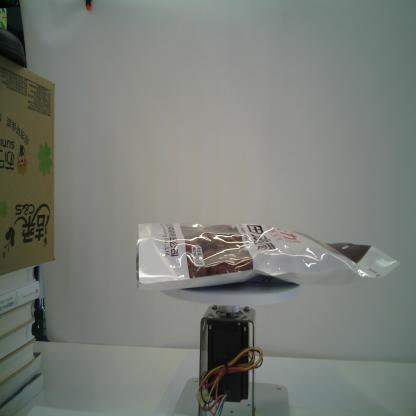Dried Food: (134, 221, 404, 296)
